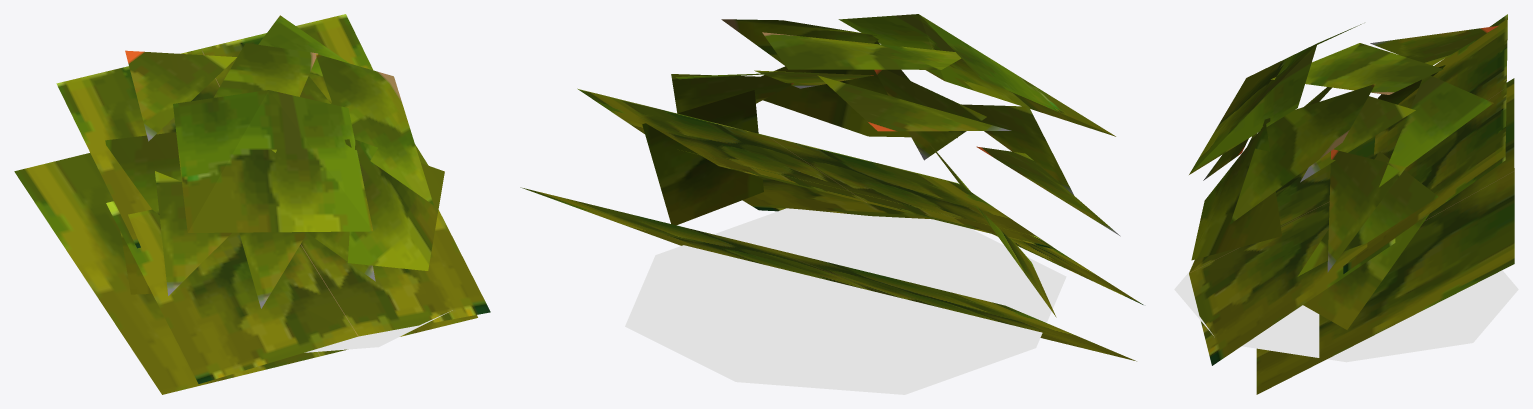
Rendered from fg_bushC_2_n.fbx.
The picture shows the model from 3 angles, left to right: view 1: azimuth 30°, elevation 25°; view 2: azimuth 150°, elevation 25°; view 3: azimuth 270°, elevation 25°; orthographic projection. The views are drawn at different scales.
Visible parts, largest first — view 1: fg_bushC_2_n, sdw_circle; view 2: fg_bushC_2_n, sdw_circle; view 3: fg_bushC_2_n, sdw_circle.
Boxes of the visible parts, x1,y1,x2,y2 form: fg_bushC_2_n: (14,14,490,394); sdw_circle: (304,310,452,352); fg_bushC_2_n: (520,14,1143,361); sdw_circle: (625,208,1066,394); fg_bushC_2_n: (1189,14,1514,394); sdw_circle: (1174,270,1518,362).
Size of the model in its own units: 0.1495 by 0.0975 by 0.117.
Materials: 2 (2 with a texture image).
